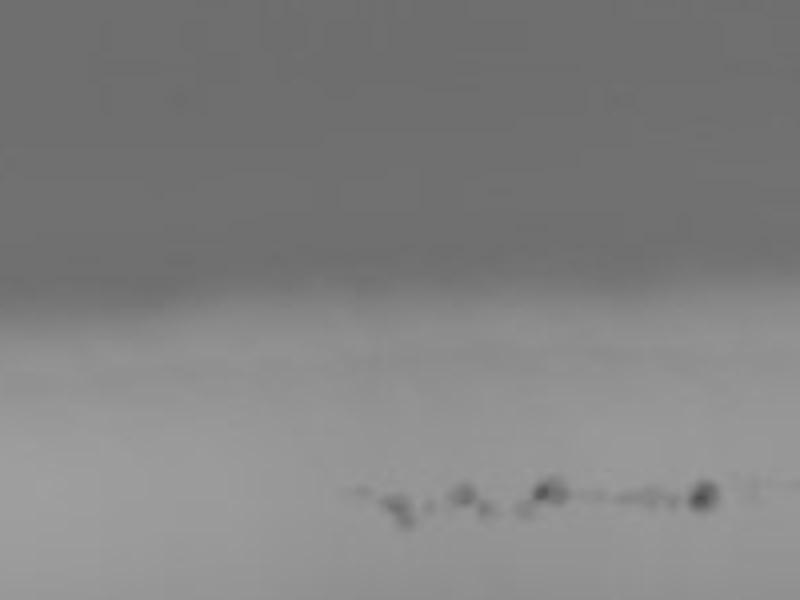defect: (381, 493, 418, 528), (691, 482, 719, 512), (537, 478, 565, 506), (450, 483, 473, 508), (642, 485, 660, 511), (609, 487, 632, 505), (476, 501, 497, 518), (518, 502, 535, 523), (355, 483, 373, 499), (425, 498, 439, 511)
